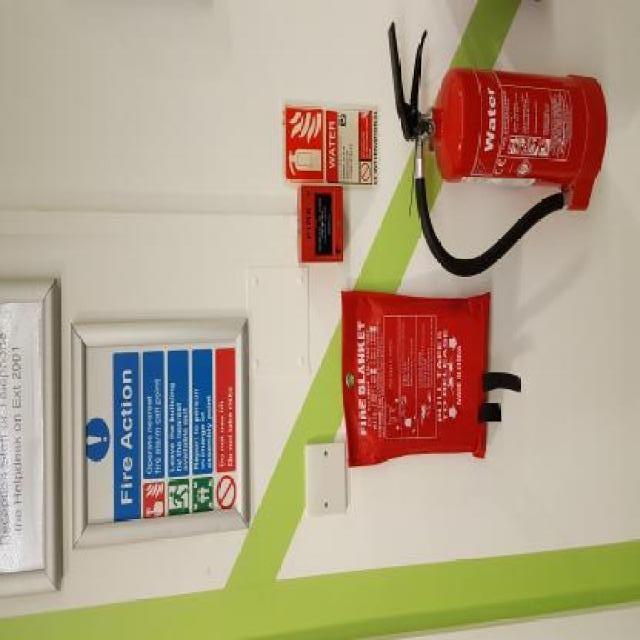fire extinguisher: (393, 31, 604, 277)
